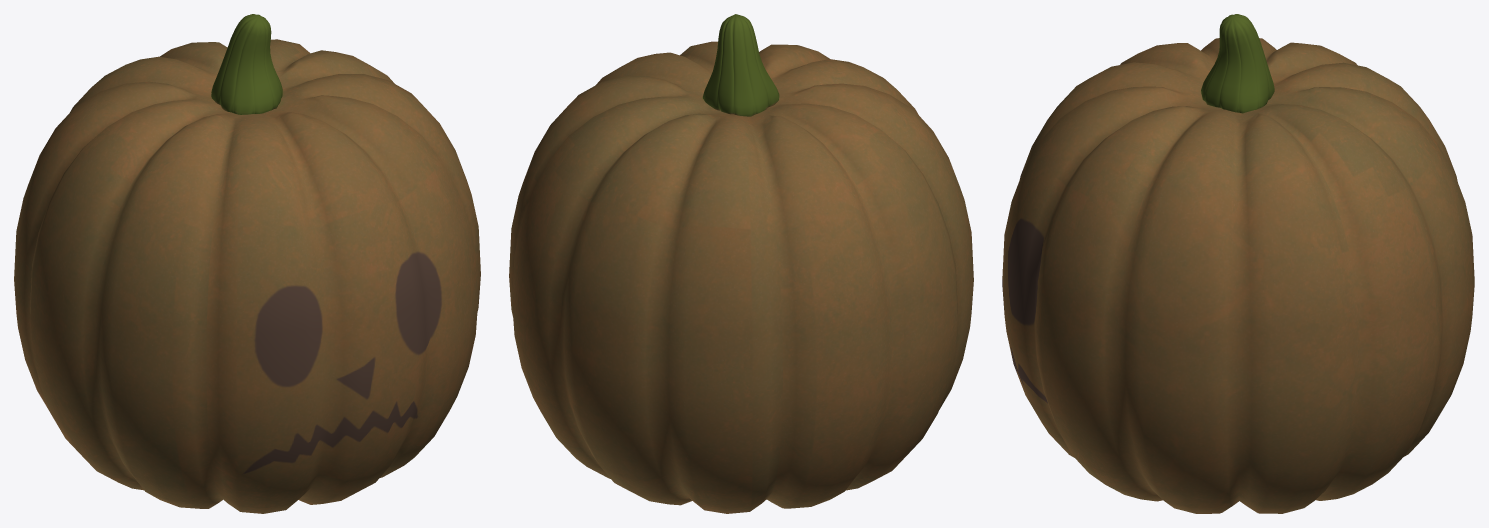
File: ac-pumpkin1.glb
3 views of the same model, side by side, from view 1: azimuth 30°, elevation 25°; view 2: azimuth 150°, elevation 25°; view 3: azimuth 270°, elevation 25° (orthographic).
Visible parts, largest first — view 1: Object_5; view 2: Object_5; view 3: Object_5.
Boxes of the visible parts, box(x1,y1,x2,y2) form: Object_5: box(14, 14, 480, 513); Object_5: box(509, 14, 973, 513); Object_5: box(1002, 14, 1474, 513).
Size of the model in its own units: 1.76 by 1.87 by 1.76.
1 material, 1 textured.
